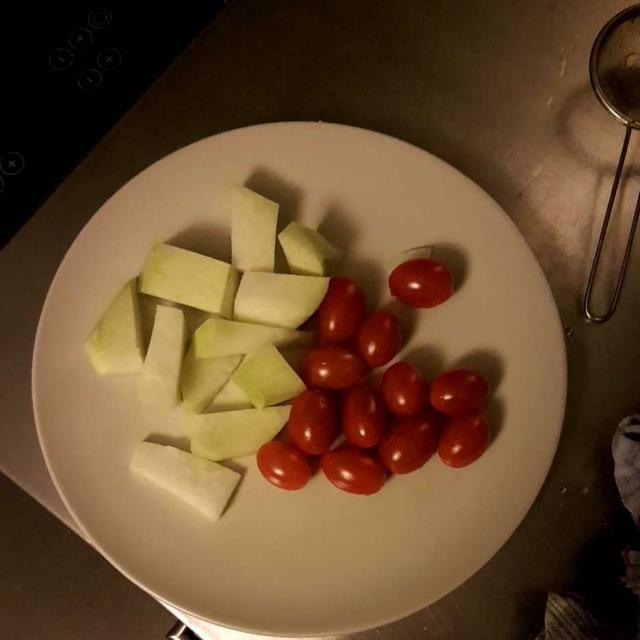kolhrabi: (85, 189, 331, 512)
tomato: (248, 257, 505, 494)
